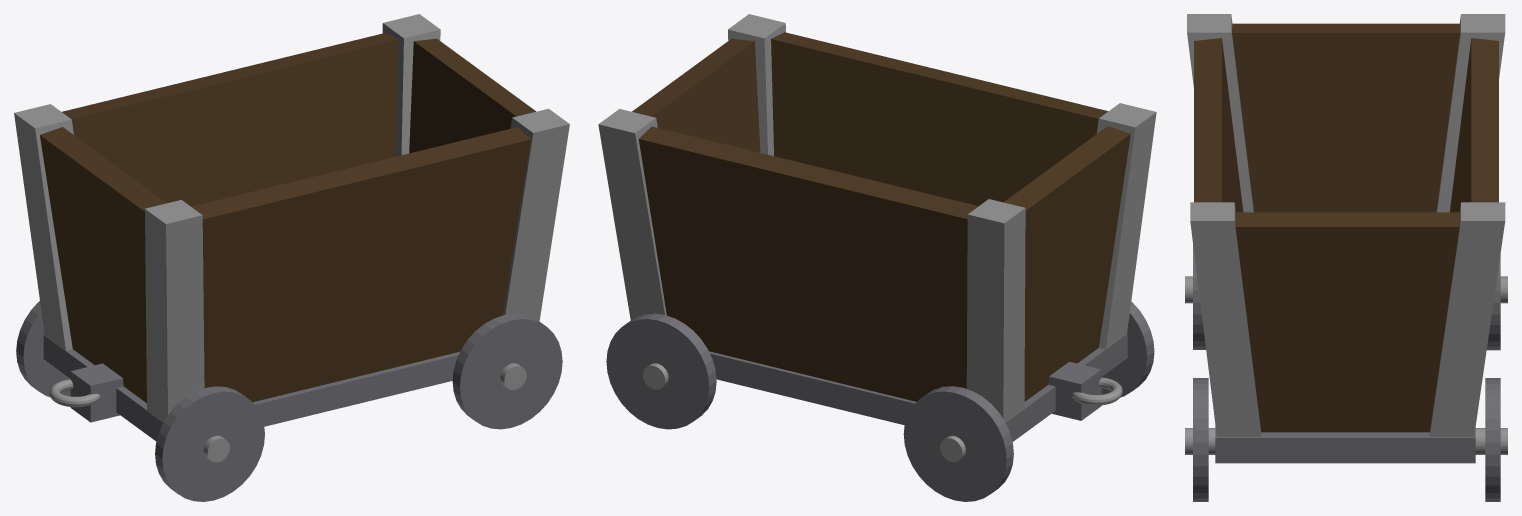
File: mineCart.fbx
3 views of the same model, side by side, from view 1: azimuth 30°, elevation 25°; view 2: azimuth 150°, elevation 25°; view 3: azimuth 270°, elevation 25° (orthographic). The views are drawn at different scales.
Visible parts, largest first — view 1: Cube.002, Cube.001, Cube.004, Cube.008, Cylinder.005, Cylinder.004, Cube.003, Cube.007, Cube, Cube.005, Cube.006, Cylinder.002 (+2 smaller); view 2: Cube.001, Cube.002, Cube.004, Cube.005, Cylinder.002, Cylinder.003, Cube.003, Cube.006, Cube, Cube.008, Cube.007, Cylinder.005 (+2 smaller); view 3: Cube.003, Cube.004, Cube.006, Cube.007, Cube, Cube.002, Cube.001, Cube.005, Cube.008, Cylinder.004, Cylinder.003, Cylinder.001 (+3 smaller).
Part boxes in pixels (bbox=[...]): Cube.002: bbox=[191, 127, 530, 402]; Cube.001: bbox=[62, 33, 398, 206]; Cube.004: bbox=[40, 127, 166, 402]; Cube.008: bbox=[145, 200, 204, 421]; Cylinder.005: bbox=[155, 386, 264, 501]; Cylinder.004: bbox=[452, 313, 562, 429]; Cube.003: bbox=[409, 38, 535, 153]; Cube.007: bbox=[502, 108, 569, 321]; Cube: bbox=[43, 335, 459, 441]; Cube.005: bbox=[14, 104, 73, 350]; Cube.006: bbox=[382, 14, 440, 156]; Cylinder.002: bbox=[16, 301, 70, 397]; Cube.001: bbox=[638, 126, 978, 401]; Cube.002: bbox=[771, 32, 1108, 205]; Cube.004: bbox=[1003, 126, 1130, 401]; Cube.005: bbox=[966, 199, 1025, 422]; Cylinder.002: bbox=[903, 386, 1013, 501]; Cylinder.003: bbox=[606, 313, 716, 429]; Cube.003: bbox=[632, 38, 760, 152]; Cube.006: bbox=[598, 109, 666, 320]; Cube: bbox=[709, 333, 1127, 441]; Cube.008: bbox=[1096, 103, 1156, 349]; Cube.007: bbox=[728, 14, 785, 155]; Cylinder.005: bbox=[1101, 301, 1154, 397]; Cube.003: bbox=[1235, 212, 1460, 432]; Cube.004: bbox=[1232, 23, 1460, 212]; Cube.006: bbox=[1430, 202, 1505, 436]; Cube.007: bbox=[1190, 202, 1261, 436]; Cube: bbox=[1215, 425, 1475, 463]; Cube.002: bbox=[1194, 38, 1243, 212]; Cube.001: bbox=[1450, 38, 1498, 212]; Cube.005: bbox=[1436, 14, 1505, 212]; Cube.008: bbox=[1187, 14, 1253, 212]; Cylinder.004: bbox=[1193, 378, 1208, 501]; Cylinder.003: bbox=[1485, 378, 1500, 501]; Cylinder.001: bbox=[1185, 428, 1507, 454].
Bounding box in the file's own units: 411 × 258 × 248.
